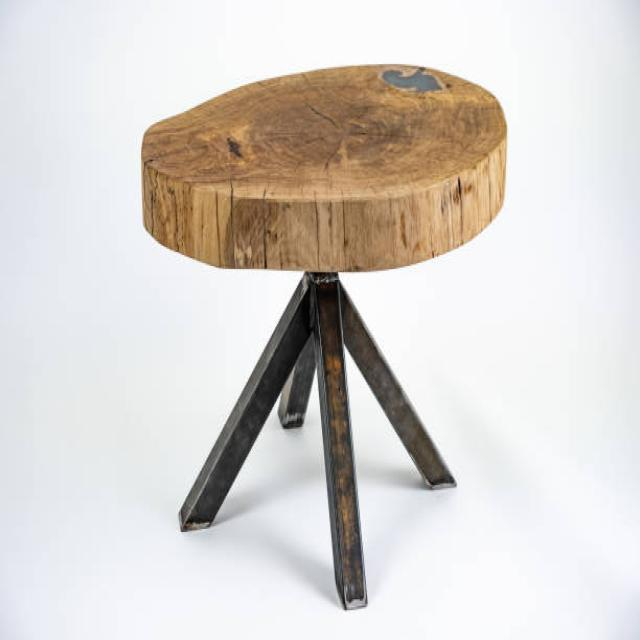table: (139, 61, 507, 610)
